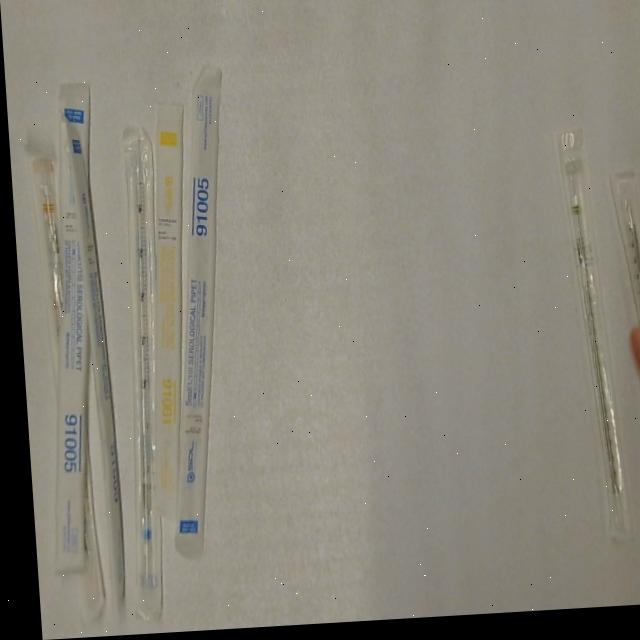Serelogical Pipet 1 mL - Sealed: (122, 103, 205, 520)
Serelogical Pipet 10 mL - Sealed: (29, 146, 75, 380)
Serelogical Pipet 2 mL - Sealed: (548, 131, 629, 555)
Serelogical Pipet 5 mL - Sealed: (144, 68, 252, 556), (21, 78, 117, 577), (101, 125, 179, 626), (61, 113, 124, 614)
